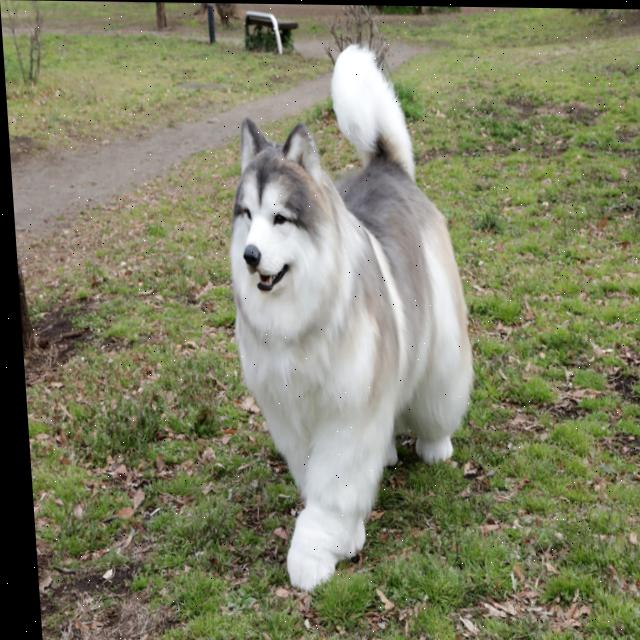ALASKAN_MALAMUTE: (210, 23, 502, 619)
